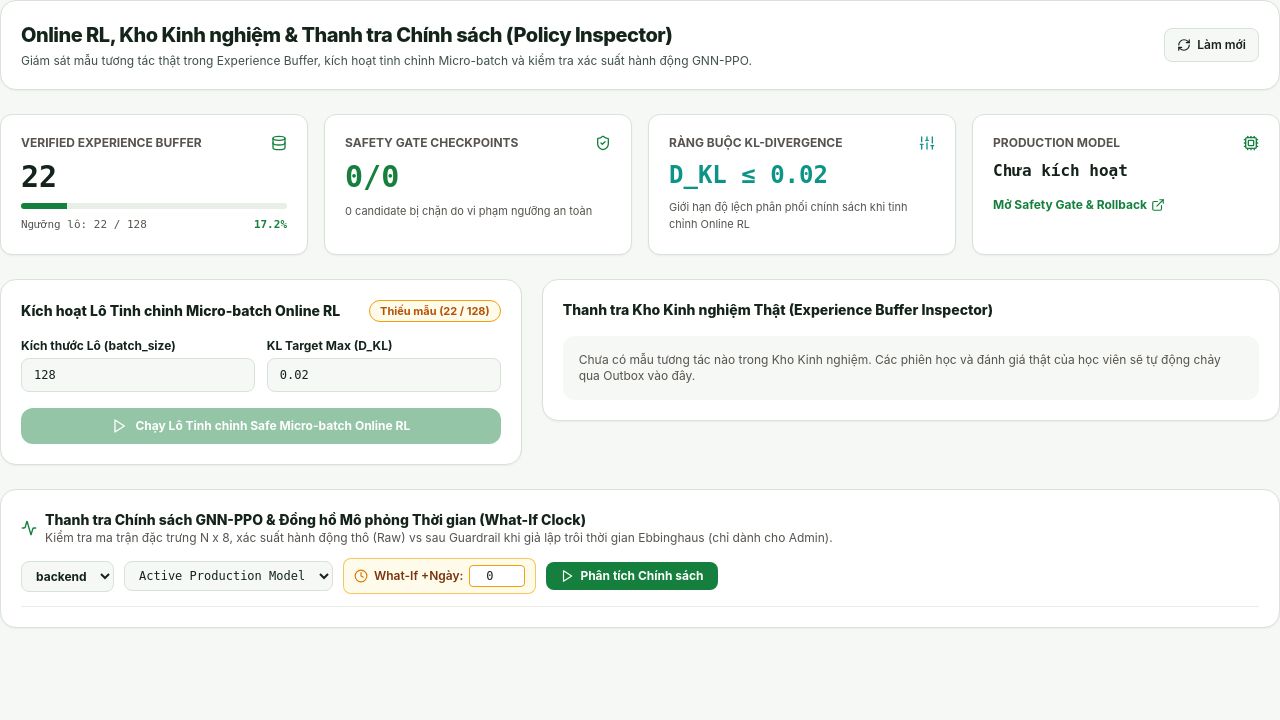
Test: P3-SLICE-3 Expert & Admin Portal Screens (SCR-15..SCR-20) › disables SCR-18 Micro-batch button when buffer_count < batch_size and enables when >= batch_size
Expected: the text "Thiếu mẫu (22 / 128)" is shown, top-left (369, 300), bottom-right (501, 322)
Expected: the button with test id "run-micro-batch-btn" is disabled, top-left (21, 408), bottom-right (501, 444)
Step 1. Replace the text in the number field labelled "Kích thước Lô (batch_size)" with "16" → [138, 375], box top-left (21, 358), bottom-right (255, 392)
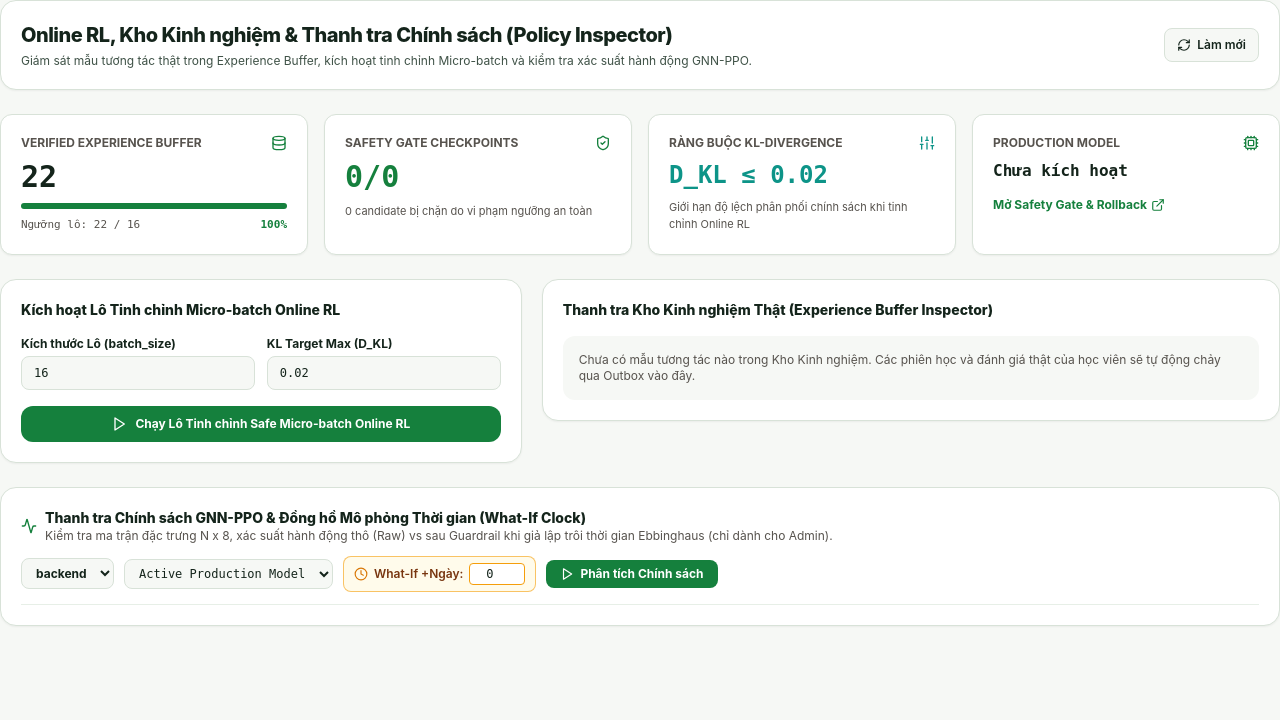
Result: the button with test id "run-micro-batch-btn" is enabled at top-left (21, 406), bottom-right (501, 442)
Step 2. Clear the number field labelled "Kích thước Lô (batch_size)" → [138, 372], box top-left (21, 356), bottom-right (255, 390)
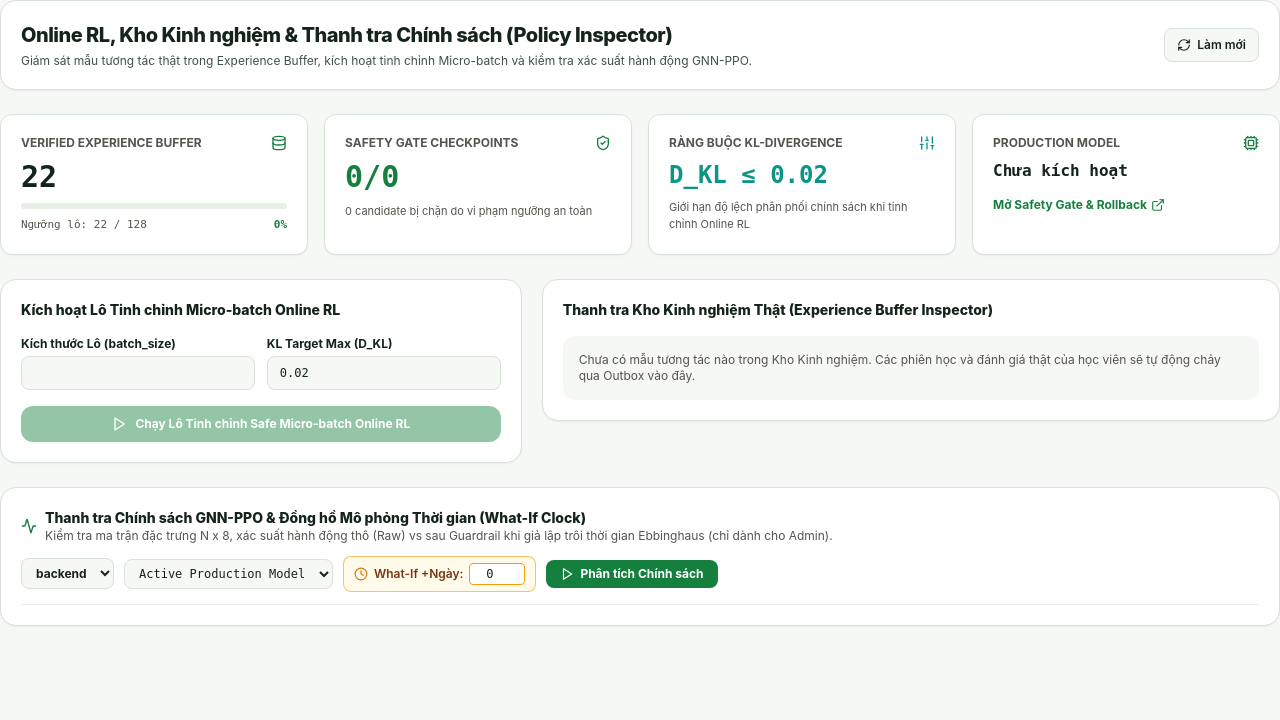
Result: the button with test id "run-micro-batch-btn" is disabled at top-left (21, 406), bottom-right (501, 442)
